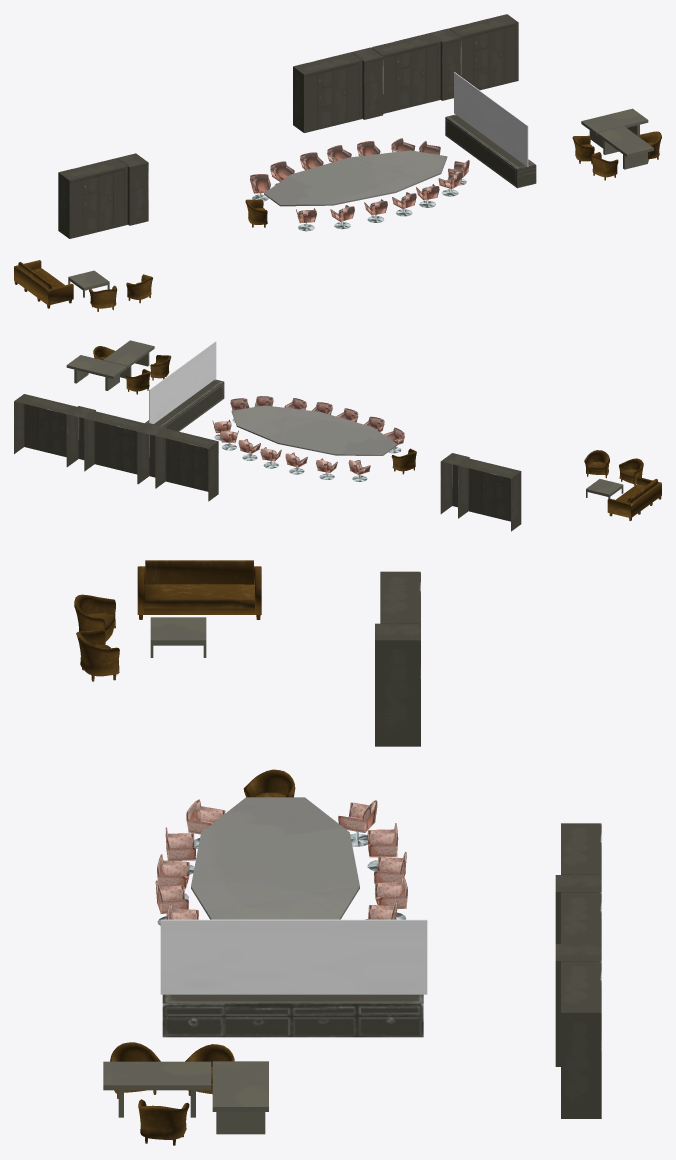
File: director.FBX
The picture shows the model from 3 angles, top to bottom: view 1: azimuth 30°, elevation 25°; view 2: azimuth 150°, elevation 25°; view 3: azimuth 270°, elevation 25°; orthographic projection. The views are drawn at different scales.
Visible parts, largest first — view 1: Object093; view 2: Object093; view 3: Object093.
Boxes of the visible parts, bbox=[...] form: Object093: bbox=[14, 14, 661, 311]; Object093: bbox=[14, 340, 661, 531]; Object093: bbox=[74, 560, 601, 1145].
Bounding box in the file's own units: 2658 × 252 × 1079.
Materials: 1 (1 with a texture image).
